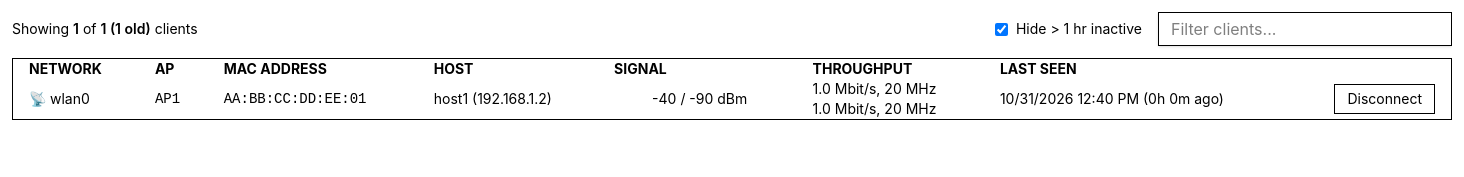
Test: ClientsTable › renders all clients when "Hide > 1 hr inactive" is unchecked
Click the checkbox labelled "Hide > 1 hr inactive" at (1002, 29), box [995,22,1008,36]
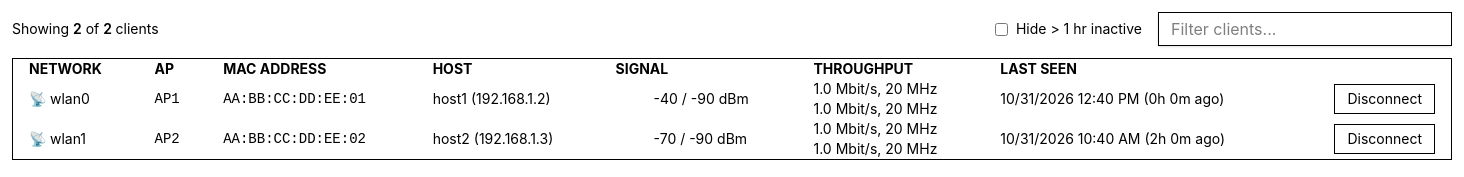
Expected: the link "AP1" is shown, [155,91,180,107]
Expected: the link "AP2" is shown, [155,131,180,147]
